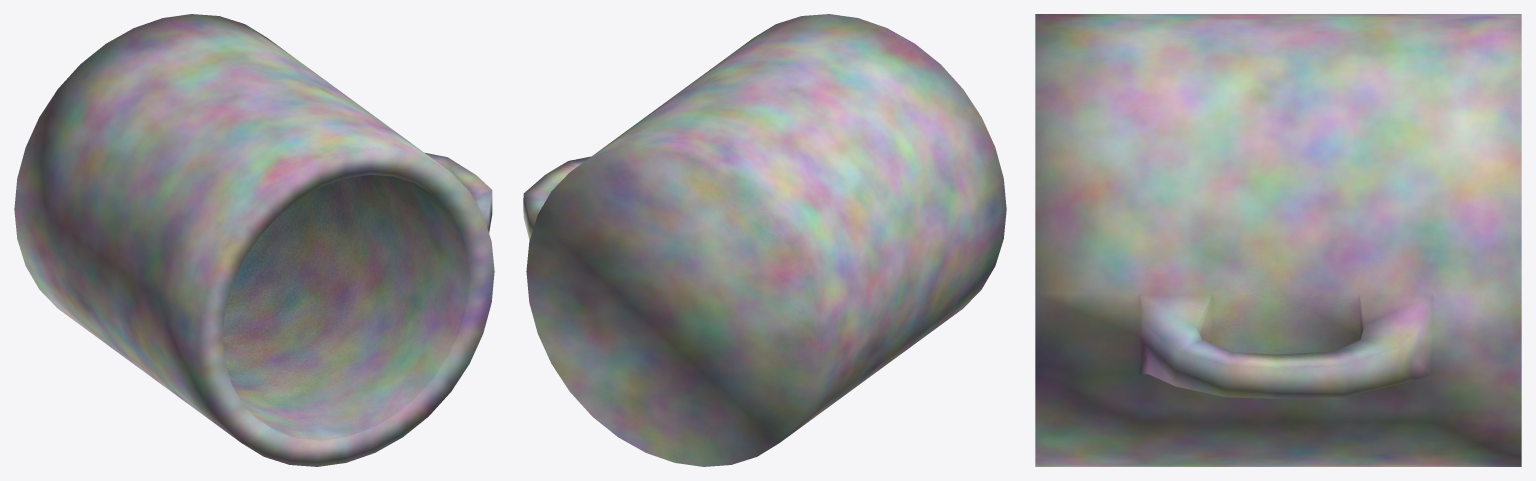
Rendered from mug_noise_tex.obj.
The picture shows the model from 3 angles, left to right: view 1: azimuth 30°, elevation 25°; view 2: azimuth 150°, elevation 25°; view 3: azimuth 270°, elevation 25°; orthographic projection. The views are drawn at different scales.
Parts seen in each view (by area): view 1: mug_noise_tex_Cylinder.003; view 2: mug_noise_tex_Cylinder.003; view 3: mug_noise_tex_Cylinder.003.
Boxes of the visible parts, x1,y1,x2,y2 form: mug_noise_tex_Cylinder.003: [14, 14, 494, 466]; mug_noise_tex_Cylinder.003: [523, 14, 1006, 466]; mug_noise_tex_Cylinder.003: [1035, 14, 1521, 466].
Size of the model in its own units: 0.118 by 0.0946 by 0.1014.
Materials: 1 (1 with a texture image).
